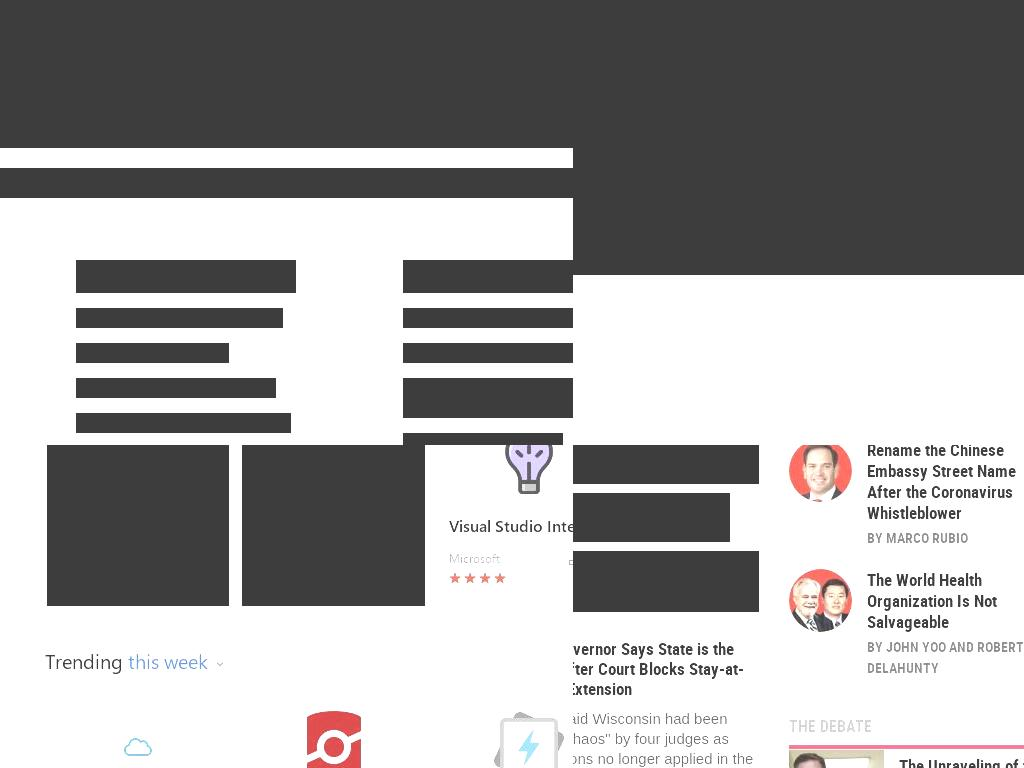button: (242, 445, 425, 606), (47, 445, 229, 606), (438, 445, 573, 606), (242, 692, 425, 768), (47, 692, 229, 768), (438, 692, 573, 768), (788, 569, 852, 632), (788, 445, 852, 502), (128, 646, 227, 677), (788, 749, 884, 768)
field: (0, 2, 491, 42)
heading: (0, 168, 573, 198), (573, 638, 745, 699), (573, 493, 730, 542), (45, 646, 123, 676), (44, 104, 152, 124), (128, 647, 208, 674), (279, 104, 385, 124), (499, 104, 573, 124)
image: (573, 0, 1024, 275), (0, 0, 573, 148), (297, 711, 370, 768), (493, 711, 565, 768), (788, 569, 852, 632), (297, 445, 370, 497), (102, 445, 174, 497), (493, 445, 565, 497), (788, 445, 852, 502), (765, 749, 908, 768), (221, 90, 270, 138), (0, 90, 35, 138), (122, 731, 154, 763), (328, 550, 359, 566), (133, 550, 163, 566), (524, 550, 554, 566), (413, 571, 424, 591), (218, 571, 228, 591), (253, 572, 266, 584), (268, 572, 281, 584), (283, 572, 296, 584), (298, 572, 311, 584), (313, 572, 326, 584), (58, 572, 70, 584), (73, 572, 85, 584), (88, 572, 100, 584), (103, 572, 115, 584), (118, 572, 130, 584), (449, 572, 461, 584), (464, 572, 476, 584), (479, 572, 491, 584), (494, 572, 506, 584), (509, 572, 521, 584)
link: (788, 445, 846, 768), (866, 445, 1016, 524), (866, 568, 997, 633), (403, 378, 573, 418), (76, 413, 291, 433), (76, 308, 283, 328), (76, 378, 276, 398), (403, 308, 573, 328), (403, 343, 573, 363), (76, 343, 229, 363), (403, 433, 563, 445), (898, 753, 1024, 768), (788, 715, 872, 737)
text: (573, 551, 759, 612), (573, 708, 759, 768), (76, 260, 296, 293), (866, 636, 1024, 678), (403, 260, 573, 293), (866, 527, 1024, 548), (449, 515, 573, 536), (89, 515, 187, 536), (296, 515, 371, 536), (58, 550, 144, 566), (253, 550, 305, 566), (449, 550, 500, 566), (387, 571, 414, 589), (192, 571, 218, 589), (388, 550, 414, 566), (193, 550, 218, 566)
